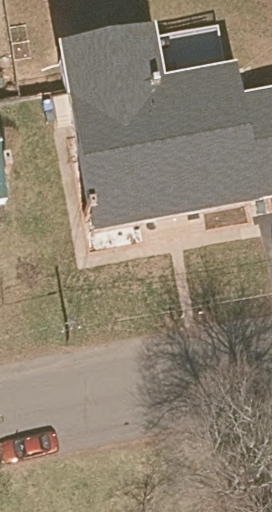DT: (60, 318, 83, 345)
